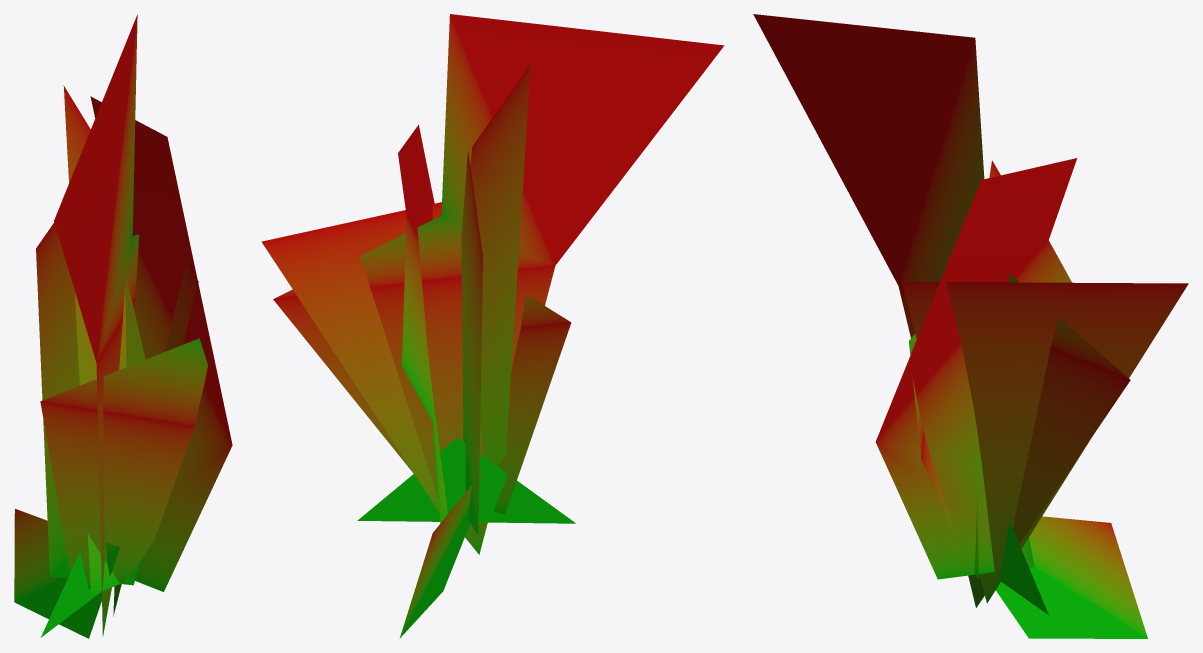
File: scvhd_Var3_LOD0.fbx
3 renders of one model, left to right at view 1: azimuth 30°, elevation 25°; view 2: azimuth 150°, elevation 25°; view 3: azimuth 270°, elevation 25°, orthographic. The views are drawn at different scales.
Visible parts, largest first — view 1: _7bf9_Var3_LOD0; view 2: _7bf9_Var3_LOD0; view 3: _7bf9_Var3_LOD0.
Boxes of the visible parts, x1,y1,x2,y2 form: _7bf9_Var3_LOD0: (14,14,232,638); _7bf9_Var3_LOD0: (262,14,724,638); _7bf9_Var3_LOD0: (753,14,1188,638).
Size of the model in its own units: 12.54 by 23.99 by 15.37.
